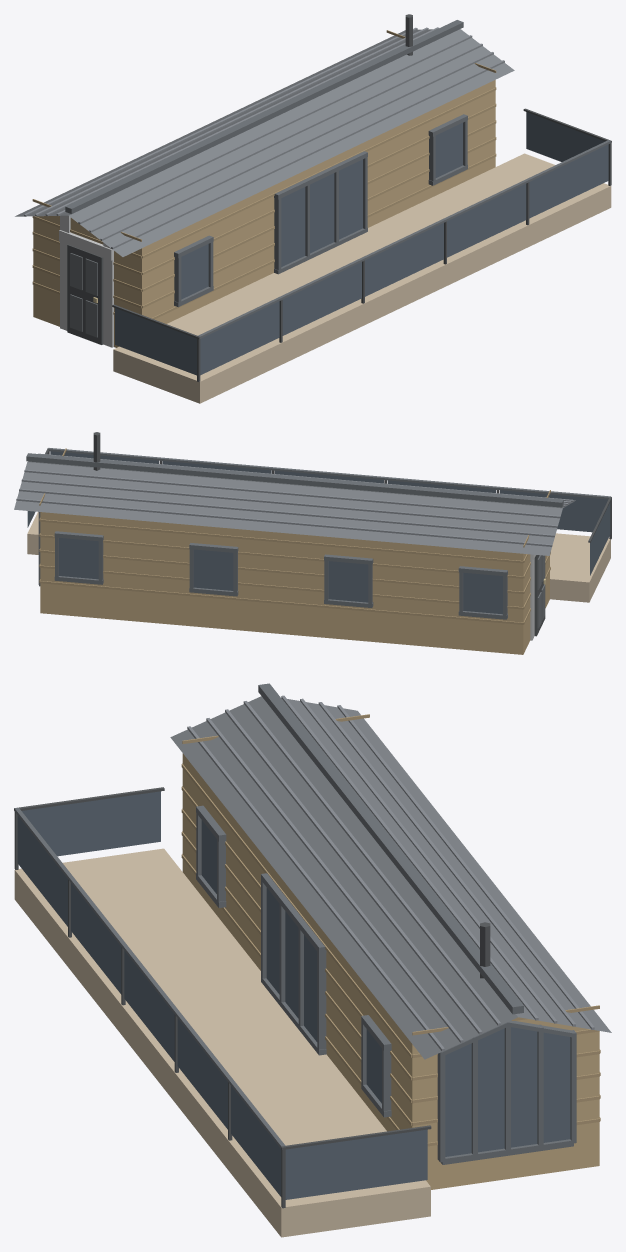
3 views of the same model, one above another, from view 1: azimuth 30°, elevation 25°; view 2: azimuth 150°, elevation 25°; view 3: azimuth 270°, elevation 25° (orthographic). The views are drawn at different scales.
Visible parts, largest first — view 1: slate, larch, door_wood, slate_dk, slate_lt, door_wood_p, window_glass_006, window_glass_005, window_glass_004, window_glass_001, window_glass_002, window_glass_003 (+10 smaller); view 2: door_wood, slate, slate_dk, slate_lt, door_wood_p, larch, window_glass_015, window_glass_016, window_glass_001, window_glass_014, window_glass_017, window_glass_006 (+8 smaller); view 3: slate, larch, slate_dk, door_wood, slate_lt, window_glass_013, window_glass_007, window_glass_006, door_wood_p, pipe, window_glass_001, window_glass_002 (+8 smaller).
Part boxes in pixels (box(x1,y1,x2,y2)): slate: box(15, 29, 514, 256); larch: box(113, 153, 611, 403); door_wood: box(33, 80, 495, 347); slate_dk: box(65, 20, 611, 338); slate_lt: box(24, 27, 504, 249); door_wood_p: box(32, 30, 496, 319); window_glass_006: box(115, 308, 196, 375); window_glass_005: box(529, 144, 608, 218); window_glass_004: box(447, 184, 526, 257); window_glass_001: box(200, 301, 279, 375); window_glass_002: box(282, 262, 361, 335); window_glass_003: box(365, 223, 443, 296); door_wood: box(40, 512, 549, 654); slate: box(14, 461, 575, 555); slate_dk: box(26, 448, 610, 619); slate_lt: box(16, 453, 573, 546); door_wood_p: box(39, 448, 550, 624); larch: box(27, 512, 610, 602); window_glass_015: box(193, 549, 233, 590); window_glass_016: box(328, 561, 368, 602); window_glass_001: box(500, 490, 607, 532); window_glass_014: box(59, 538, 98, 579); window_glass_017: box(463, 572, 502, 614); window_glass_006: box(590, 502, 610, 575); slate: box(170, 696, 611, 1059); larch: box(14, 848, 430, 1237); slate_dk: box(14, 683, 576, 1164); door_wood: box(182, 753, 599, 1189); slate_lt: box(187, 695, 594, 1051); window_glass_013: box(445, 1027, 570, 1156); window_glass_007: box(285, 1129, 427, 1199); window_glass_006: box(22, 791, 160, 856); door_wood_p: box(181, 714, 600, 1146); pipe: box(14, 787, 490, 1208); window_glass_001: box(17, 815, 67, 926); window_glass_002: box(71, 883, 121, 994).
Bounding box in the file's own units: 13.64 × 3.84 × 9.1.
